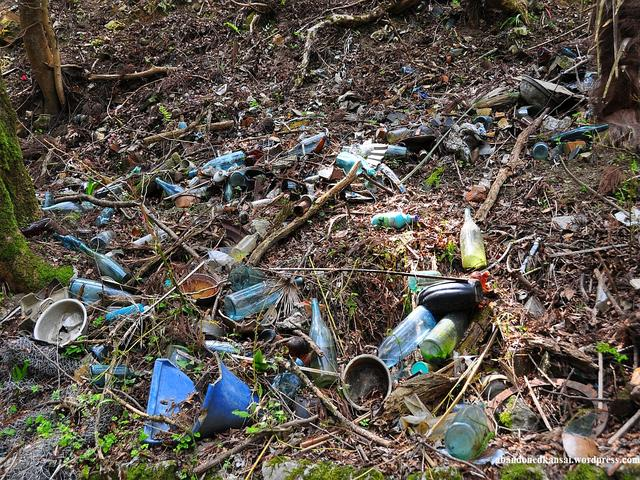garbage: (57, 122, 562, 442)
